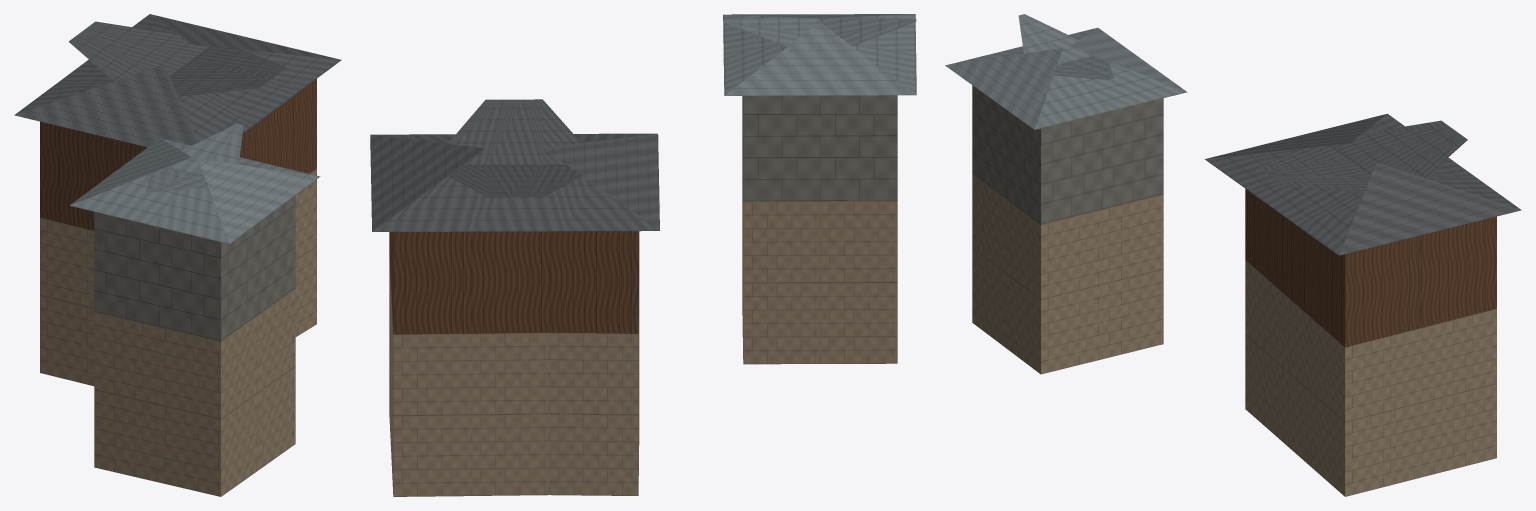
File: bld_c9_18_425.gltf
3 views of the same model, side by side, from view 1: azimuth 30°, elevation 25°; view 2: azimuth 150°, elevation 25°; view 3: azimuth 270°, elevation 25° (orthographic). The views are drawn at different scales.
Visible parts, largest first — view 1: bld_c9_18_425; view 2: bld_c9_18_425; view 3: bld_c9_18_425.
Part boxes in pixels (x1,y1,x2,y2): bld_c9_18_425: [14, 14, 341, 496]; bld_c9_18_425: [370, 14, 916, 496]; bld_c9_18_425: [945, 14, 1521, 496].
Bounding box in the file's own units: 12.59 × 10.2 × 16.43.
5 materials, 5 textured.
